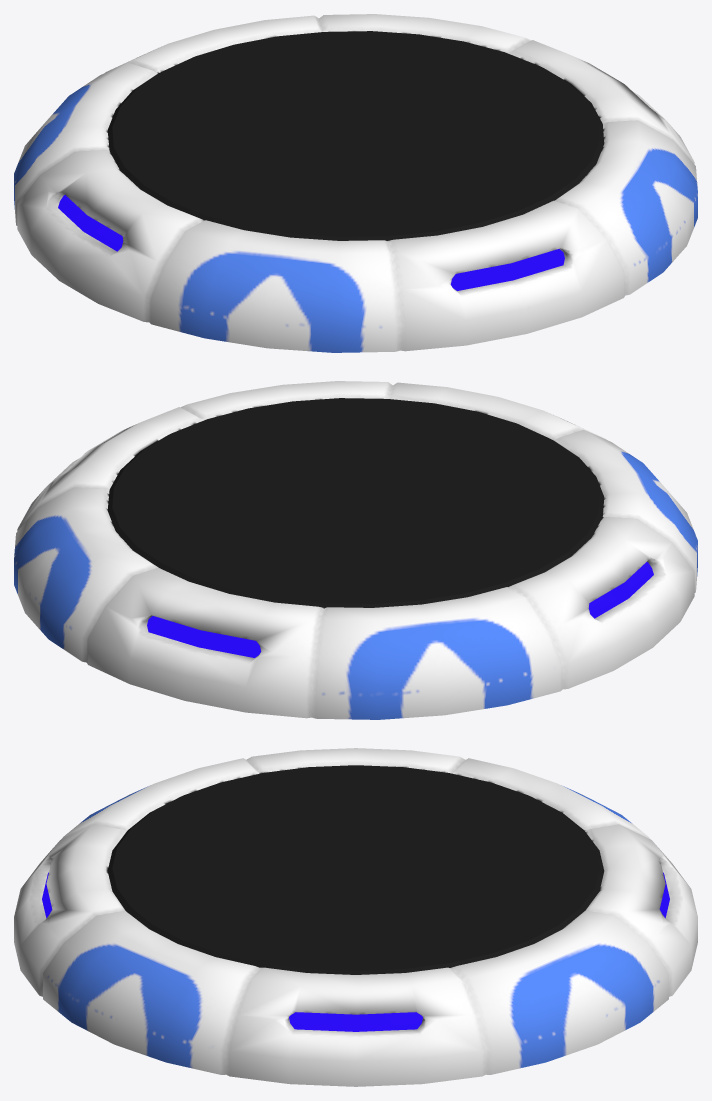
The model's file is JumpingPadModel.glb.
3 renders of one model, top to bottom at view 1: azimuth 30°, elevation 25°; view 2: azimuth 150°, elevation 25°; view 3: azimuth 270°, elevation 25°, orthographic.
Parts seen in each view (by area): view 1: Circle.001, Circle.002, Circle.003; view 2: Circle.001, Circle.002, Circle.003; view 3: Circle.001, Circle.002, Circle.003.
Boxes of the visible parts, x1=… form: Circle.001: x1=14, y1=14, x2=697, y2=352; Circle.002: x1=107, y1=31, x2=604, y2=240; Circle.003: x1=58, y1=195, x2=564, y2=290; Circle.001: x1=14, y1=381, x2=697, y2=719; Circle.002: x1=107, y1=398, x2=604, y2=607; Circle.003: x1=147, y1=562, x2=653, y2=657; Circle.001: x1=14, y1=748, x2=697, y2=1086; Circle.002: x1=107, y1=765, x2=604, y2=974; Circle.003: x1=42, y1=872, x2=669, y2=1031.
Bounding box in the file's own units: 2 × 0.2395 × 2.
3 materials, 1 textured.
